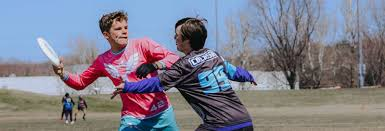disc: (34, 38, 64, 67)
